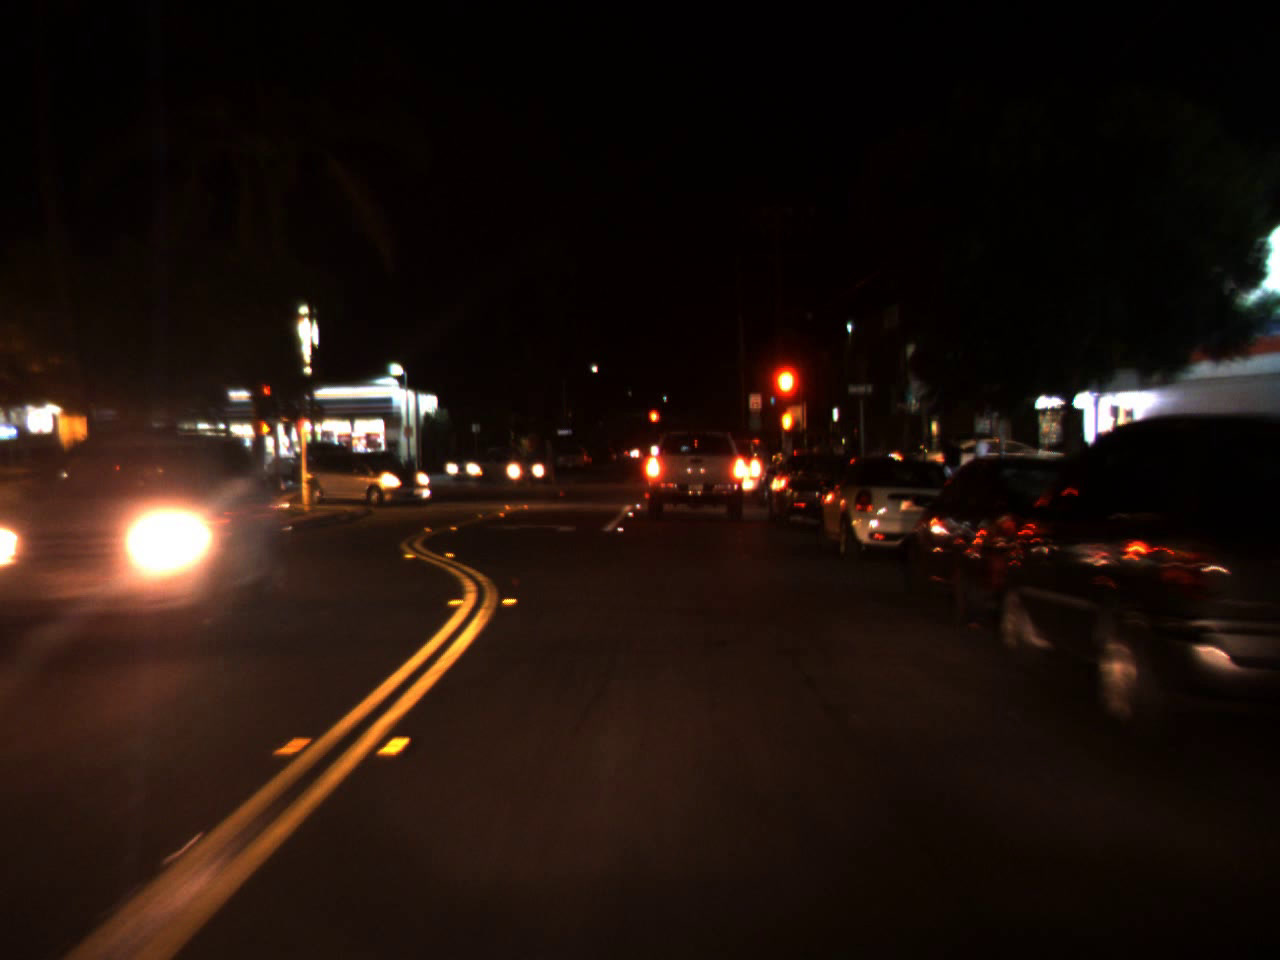stop: (769, 360, 799, 430), (646, 407, 662, 439), (262, 385, 271, 403)
